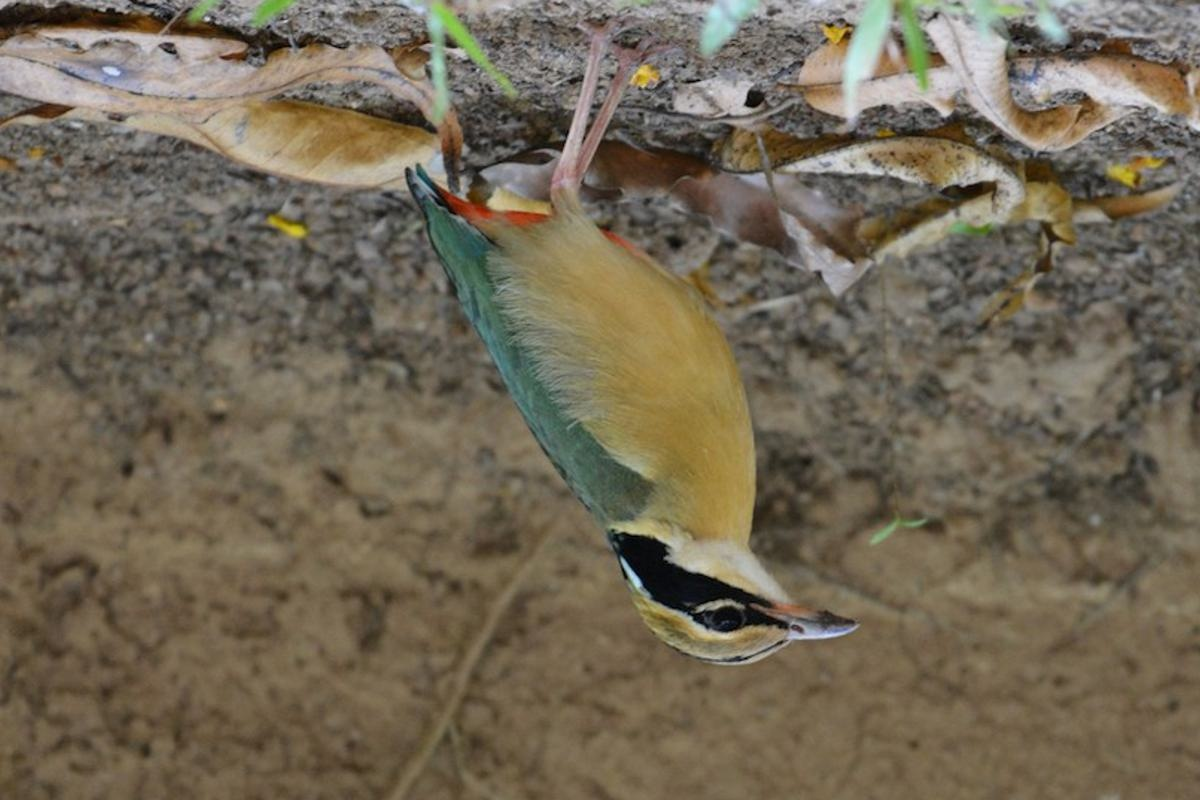pitta: (424, 82, 910, 698)
